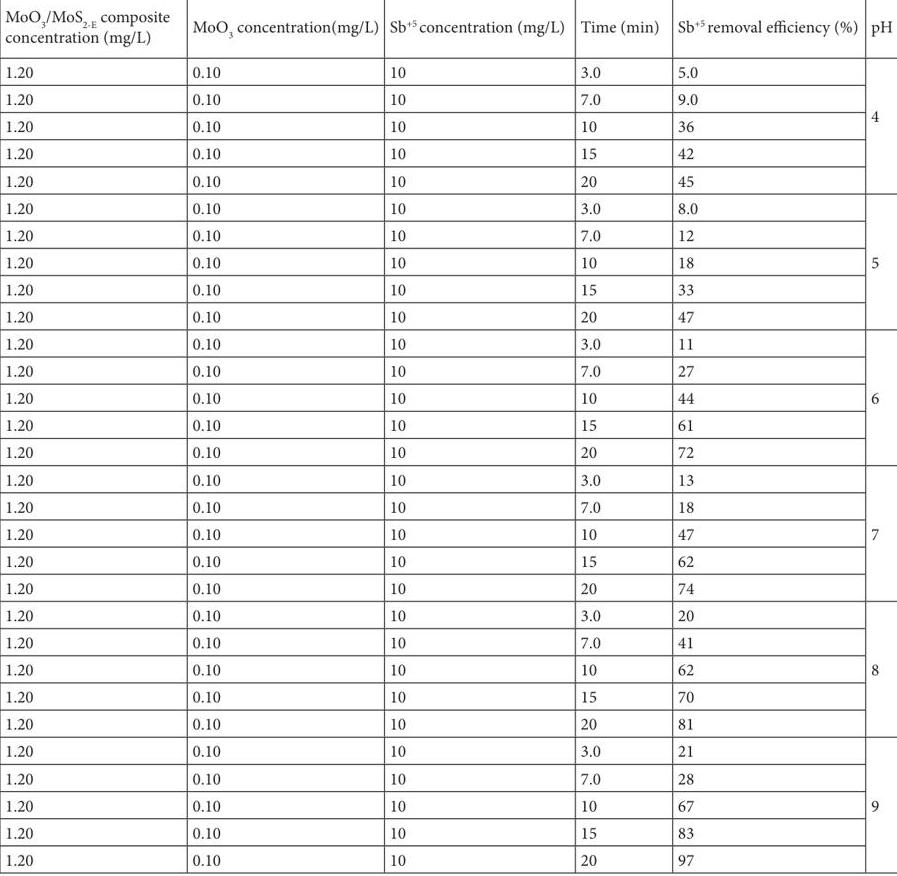table: (4, 4, 892, 870)
table column: (180, 4, 383, 870), (668, 4, 864, 870), (383, 4, 572, 870), (4, 4, 180, 870), (572, 4, 668, 870), (864, 4, 892, 870)
table column header: (4, 4, 892, 54)
table row: (4, 4, 892, 54), (4, 54, 892, 85), (4, 166, 892, 194), (4, 329, 892, 357), (4, 492, 892, 520), (4, 655, 892, 683), (4, 85, 892, 112), (4, 112, 892, 139), (4, 139, 892, 166), (4, 194, 892, 221), (4, 221, 892, 248), (4, 248, 892, 275), (4, 275, 892, 302), (4, 302, 892, 329), (4, 357, 892, 384), (4, 384, 892, 411), (4, 411, 892, 438), (4, 438, 892, 465), (4, 465, 892, 492), (4, 520, 892, 547), (4, 547, 892, 574), (4, 574, 892, 601), (4, 601, 892, 628), (4, 628, 892, 655), (4, 683, 892, 710), (4, 710, 892, 737), (4, 737, 892, 764), (4, 764, 892, 791), (4, 791, 892, 818), (4, 818, 892, 845), (4, 845, 892, 870)
table spanning cell: (864, 54, 892, 194), (864, 329, 892, 465), (864, 465, 892, 601), (864, 601, 892, 737), (864, 194, 892, 329), (864, 737, 892, 870)
